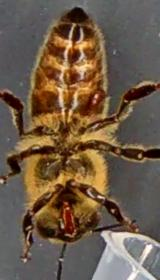varroa_mite: (74, 77, 113, 114)
